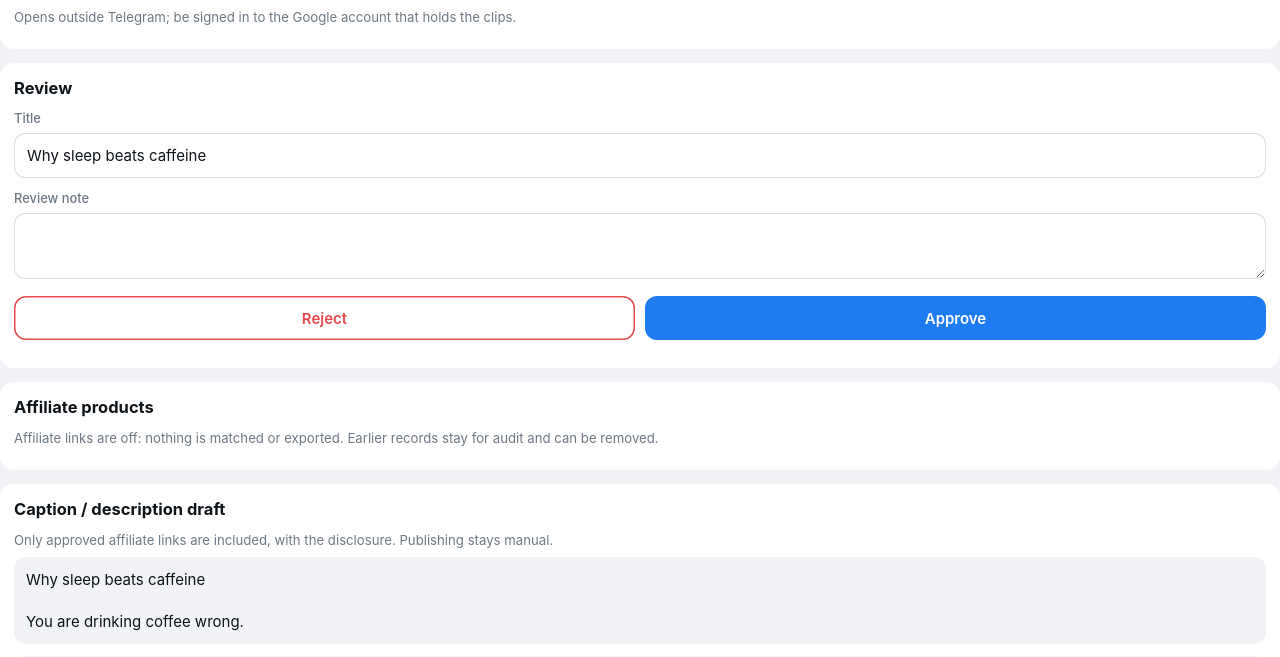
Test: ClipDetail › rejects without sending an unchanged title
(page scrolled)
Click the button "Reject": {"x": 324, "y": 318} [14, 296, 635, 340]
(page scrolled)
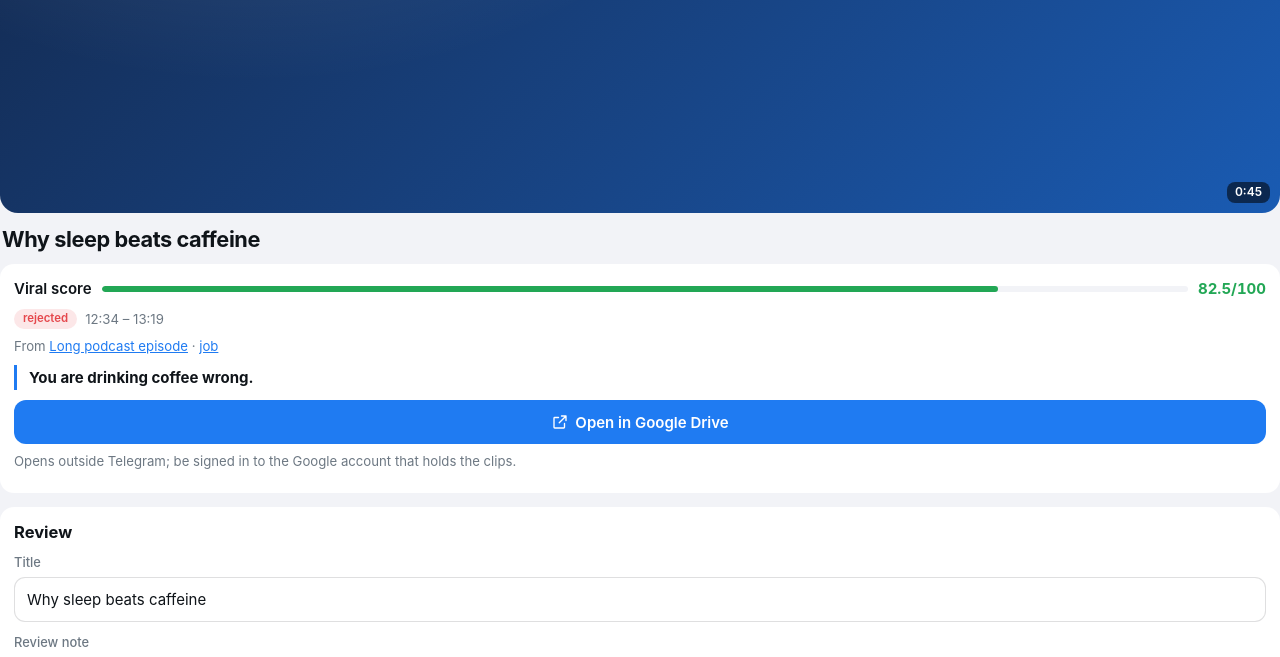
Now the text "rejected" is shown, box [14, 309, 77, 329]
